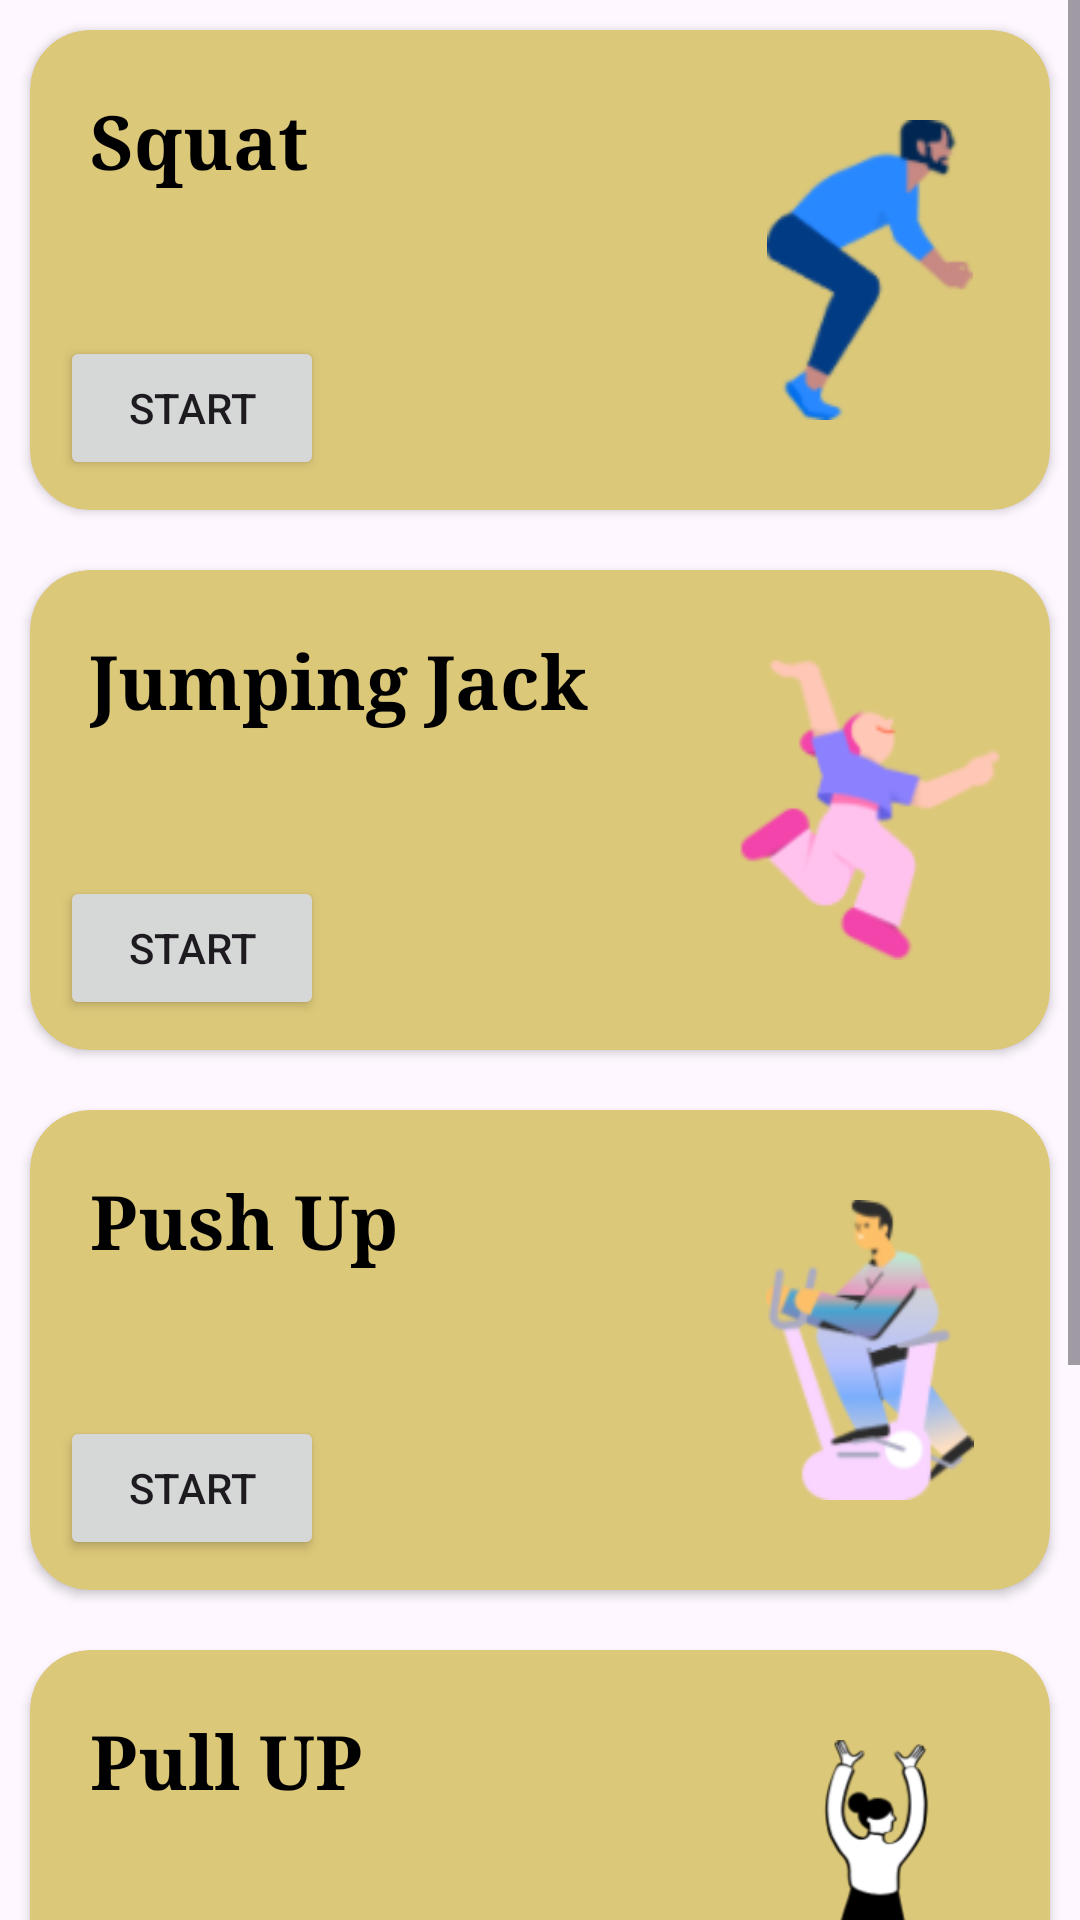

Point at icon controls on the screen. Image size 1080px x 1920px, points as (x,y).
squat: (870,270)
